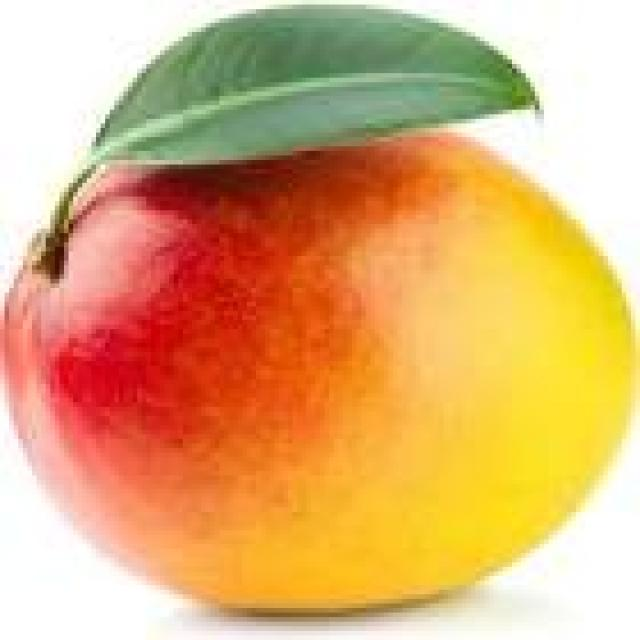mango: (6, 10, 629, 608)
